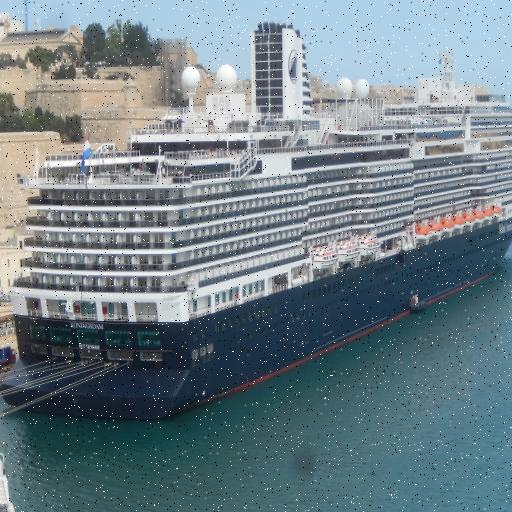cruises: (2, 11, 512, 429)
